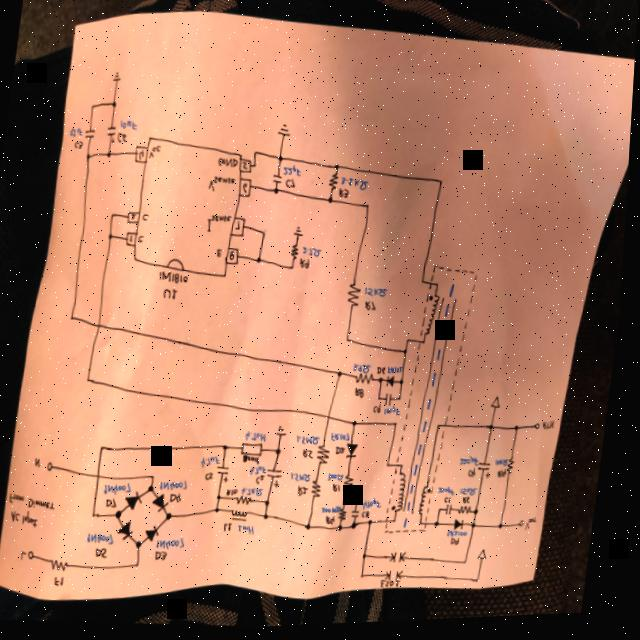capacitor: (270, 469, 288, 491), (481, 464, 497, 484), (220, 466, 235, 485), (105, 125, 117, 145), (83, 127, 97, 140), (272, 175, 285, 186), (388, 395, 396, 409), (356, 511, 365, 521), (451, 506, 458, 518)
crossover: (100, 472, 107, 480), (99, 322, 105, 329), (331, 416, 336, 423)
diode: (121, 520, 141, 542), (128, 490, 148, 512), (156, 493, 174, 515), (348, 444, 364, 462), (149, 525, 165, 543), (458, 521, 469, 535), (389, 377, 398, 391)
ground: (277, 124, 293, 140), (279, 427, 293, 440), (493, 399, 505, 413), (294, 227, 306, 239), (111, 70, 122, 83), (482, 551, 493, 564)
inductor: (427, 296, 448, 341), (399, 473, 417, 517), (416, 486, 435, 520), (245, 443, 267, 459), (236, 510, 253, 523)
junction: (152, 484, 160, 494), (120, 510, 128, 520), (273, 188, 281, 197), (140, 541, 148, 549), (85, 152, 93, 160), (365, 205, 373, 213), (267, 514, 275, 522), (170, 513, 178, 521), (258, 257, 265, 266), (328, 197, 335, 206), (278, 156, 285, 165), (103, 444, 110, 453), (355, 523, 362, 532), (111, 100, 118, 108), (517, 428, 524, 436), (310, 525, 317, 533), (71, 314, 78, 322), (226, 445, 233, 453), (340, 372, 347, 380), (438, 181, 445, 189), (88, 376, 95, 384), (372, 521, 379, 529), (106, 151, 113, 158), (477, 512, 484, 519), (140, 561, 146, 569), (342, 526, 348, 534), (219, 508, 225, 515), (503, 527, 509, 534), (492, 427, 498, 434), (347, 338, 353, 345), (279, 450, 286, 456), (253, 152, 259, 158), (434, 267, 440, 273), (347, 502, 353, 508), (109, 233, 114, 240), (90, 103, 95, 110), (292, 266, 297, 273), (356, 422, 361, 429), (422, 282, 427, 288), (481, 581, 486, 587), (397, 424, 402, 430), (367, 556, 372, 562), (135, 257, 140, 263), (253, 164, 258, 170), (335, 166, 340, 172), (270, 502, 275, 508), (476, 526, 481, 532), (382, 380, 387, 386), (96, 512, 101, 518), (389, 530, 393, 537), (390, 465, 395, 470), (360, 500, 365, 505), (112, 213, 116, 219), (440, 524, 444, 530), (263, 231, 267, 237), (366, 575, 370, 581), (407, 351, 411, 357), (469, 562, 473, 568), (404, 465, 408, 471), (425, 342, 429, 348), (475, 275, 479, 281), (437, 285, 441, 291), (222, 495, 226, 501), (403, 382, 407, 388), (381, 398, 385, 404), (155, 474, 159, 480), (409, 341, 413, 346), (402, 399, 406, 404), (443, 511, 447, 516), (397, 522, 402, 526), (429, 529, 432, 535), (424, 524, 428, 528), (440, 427, 444, 431)
resistor: (347, 284, 365, 311), (319, 447, 336, 468), (346, 475, 360, 499), (55, 557, 75, 572), (314, 481, 328, 501), (358, 374, 377, 388), (328, 175, 340, 195), (240, 495, 258, 507), (291, 245, 302, 262), (341, 509, 354, 523), (462, 508, 477, 519), (511, 462, 519, 479)
terminal: (50, 461, 58, 471), (33, 549, 40, 559), (537, 426, 544, 435), (523, 524, 530, 531)
text: (12, 490, 62, 512), (14, 508, 44, 529), (207, 212, 234, 235), (208, 174, 237, 193), (159, 270, 191, 287), (340, 177, 371, 194), (90, 531, 121, 547), (108, 480, 137, 497), (161, 536, 191, 552), (164, 478, 193, 493), (365, 288, 391, 302), (248, 430, 272, 445), (203, 455, 224, 471), (366, 499, 388, 514), (300, 435, 325, 448), (294, 472, 317, 486), (245, 486, 269, 499), (217, 157, 239, 171), (334, 432, 355, 446), (119, 118, 140, 132), (303, 248, 325, 260), (463, 459, 485, 471), (283, 166, 303, 179), (242, 525, 261, 538), (386, 581, 407, 592), (451, 532, 474, 542), (246, 455, 265, 467), (253, 466, 272, 478), (99, 546, 115, 560), (68, 125, 84, 139), (355, 365, 375, 376), (441, 489, 461, 500), (387, 407, 405, 419), (326, 507, 347, 517), (165, 288, 180, 301), (149, 145, 162, 160), (530, 520, 542, 536), (464, 490, 483, 500), (284, 178, 298, 191), (306, 449, 320, 462), (110, 496, 123, 510), (174, 492, 188, 505), (332, 475, 349, 485), (390, 368, 407, 378), (301, 486, 314, 499), (339, 189, 352, 202), (357, 388, 369, 402), (544, 424, 559, 435), (229, 489, 245, 499), (300, 259, 312, 272), (160, 550, 174, 561), (499, 461, 514, 471), (329, 516, 341, 528), (117, 131, 128, 144), (366, 302, 379, 313), (59, 575, 71, 586), (472, 470, 482, 482), (339, 447, 351, 457), (260, 475, 270, 487), (228, 522, 238, 534), (142, 212, 152, 223), (379, 368, 390, 378), (502, 471, 512, 482), (336, 484, 346, 495), (455, 539, 466, 549), (217, 248, 226, 260), (377, 406, 386, 418), (74, 140, 84, 150), (241, 162, 251, 171), (209, 473, 219, 482), (138, 149, 146, 160), (243, 183, 250, 195), (366, 513, 375, 522), (467, 499, 476, 508), (139, 235, 147, 245), (25, 550, 33, 560), (235, 222, 243, 232), (38, 457, 46, 467), (230, 251, 237, 262), (449, 499, 457, 507), (130, 235, 136, 243), (132, 214, 138, 221)
